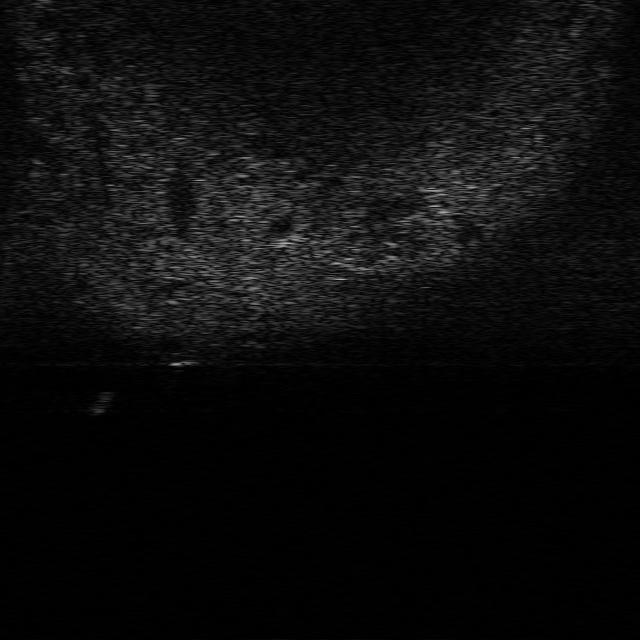cylinder: (92, 388, 116, 417)
